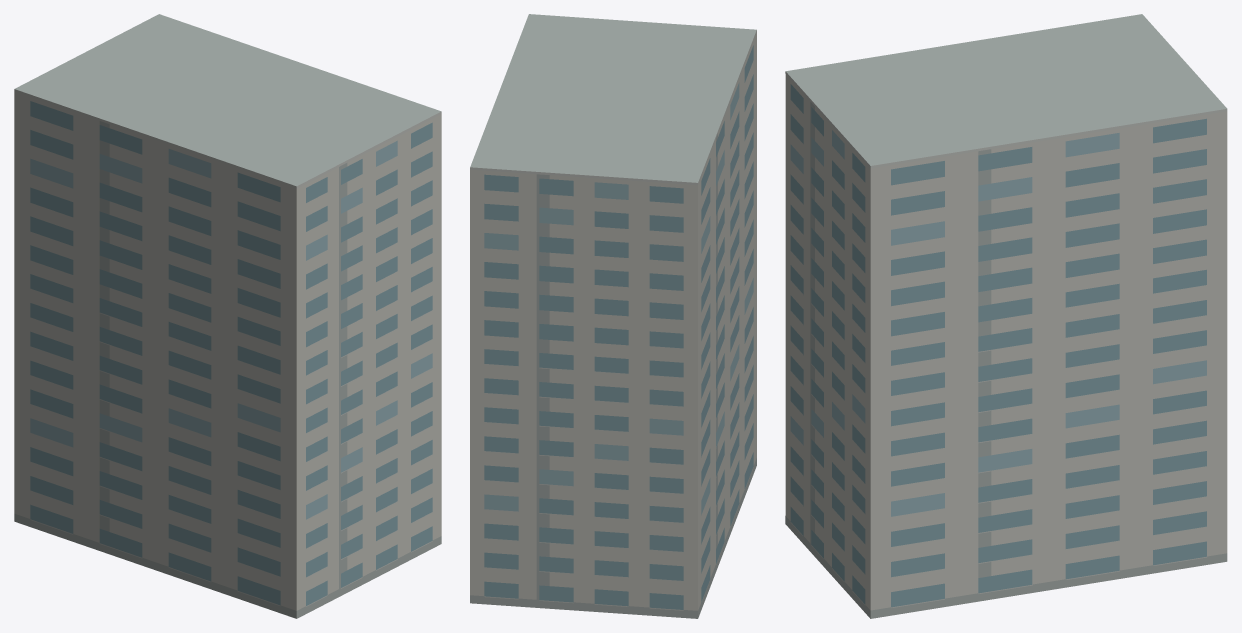
Rendered from residential-06fb4b48-400c-4ffa-b8a7-0cfbca987ea5.glb.
3 renders of one model, left to right at view 1: azimuth 30°, elevation 25°; view 2: azimuth 150°, elevation 25°; view 3: azimuth 270°, elevation 25°, orthographic. The views are drawn at different scales.
Parts seen in each view (by area): view 1: residential-06fb4b48-400c-4ffa-b8a7-0cfbca987ea5.tmp; view 2: residential-06fb4b48-400c-4ffa-b8a7-0cfbca987ea5.tmp; view 3: residential-06fb4b48-400c-4ffa-b8a7-0cfbca987ea5.tmp.
Part boxes in pixels (x1=…): residential-06fb4b48-400c-4ffa-b8a7-0cfbca987ea5.tmp: x1=14, y1=14, x2=441, y2=618; residential-06fb4b48-400c-4ffa-b8a7-0cfbca987ea5.tmp: x1=470, y1=14, x2=756, y2=618; residential-06fb4b48-400c-4ffa-b8a7-0cfbca987ea5.tmp: x1=785, y1=14, x2=1227, y2=618.
Size of the model in its own units: 31.68 by 44 by 38.92.
